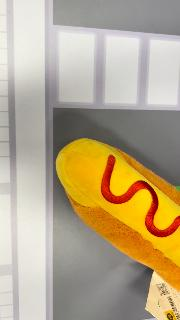hotdog: (55, 138, 179, 292)
